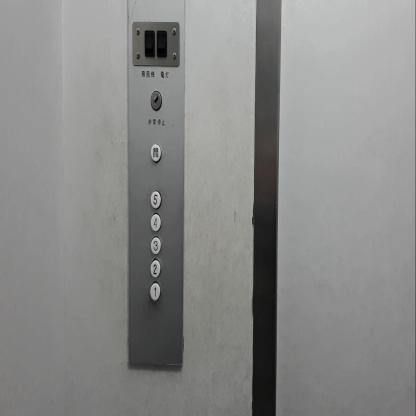1: (149, 280, 161, 302)
2: (148, 257, 161, 280)
3: (149, 234, 161, 257)
4: (149, 210, 161, 233)
5: (149, 188, 161, 211)
keyhole: (150, 89, 162, 112)
switch: (142, 27, 156, 60), (155, 27, 168, 60)
text: (149, 142, 161, 165)
